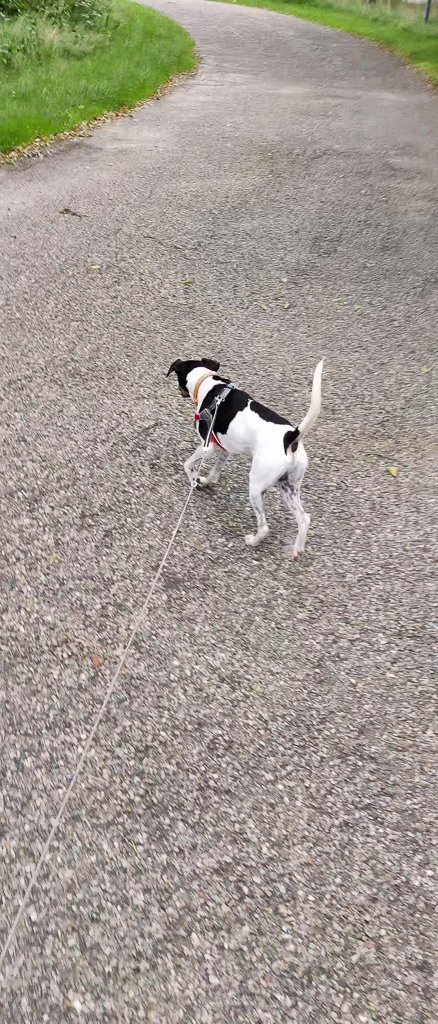Dog: (162, 329, 337, 577)
